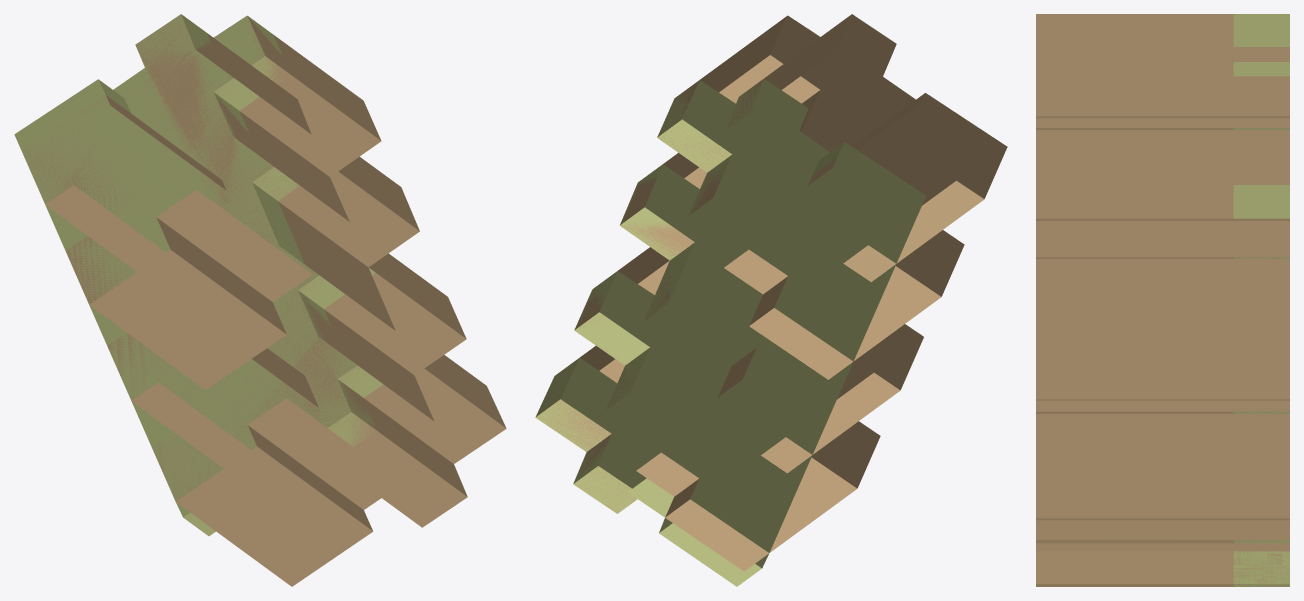
3 views of the same model, side by side, from view 1: azimuth 30°, elevation 25°; view 2: azimuth 150°, elevation 25°; view 3: azimuth 270°, elevation 25° (orthographic). The views are drawn at different scales.
Visible parts, largest first — view 1: 0_1_3_2_1_2_1_0; view 2: 0_1_3_2_1_2_1_0; view 3: 0_1_3_2_1_2_1_0.
Boxes of the visible parts, <box> form: 0_1_3_2_1_2_1_0: <box>14,14,506,586</box>; 0_1_3_2_1_2_1_0: <box>535,14,1007,586</box>; 0_1_3_2_1_2_1_0: <box>1036,14,1289,586</box>.
Bounding box in the file's own units: 50.35 × 64.5 × 27.
